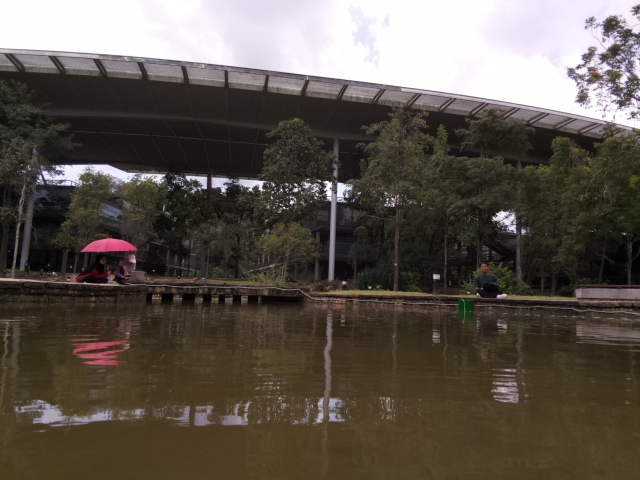obstacle: (457, 297, 476, 317)
